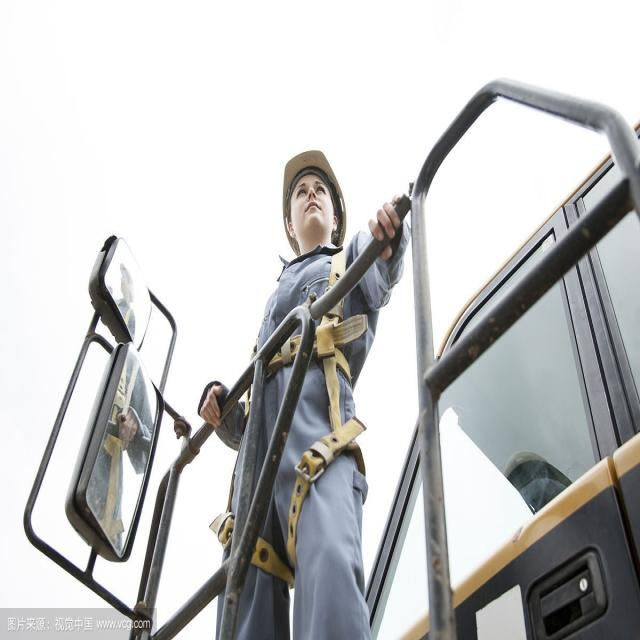Con_Casco: (280, 145, 348, 248)
